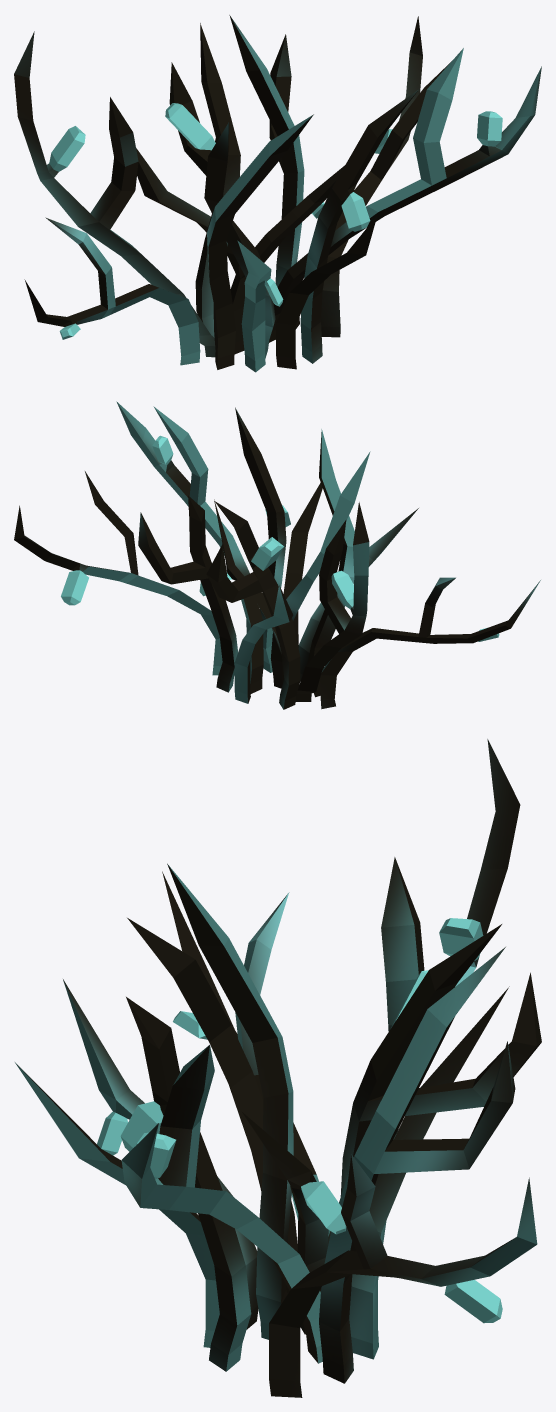
File: puska.fbx
3 views of the same model, one above another, from view 1: azimuth 30°, elevation 25°; view 2: azimuth 150°, elevation 25°; view 3: azimuth 270°, elevation 25° (orthographic). The views are drawn at different scales.
Parts seen in each view (by area): view 1: oksa; view 2: oksa; view 3: oksa.
Part boxes in pixels (<box>): oksa: <box>14,15,541,372</box>; oksa: <box>14,401,540,709</box>; oksa: <box>15,739,541,1397</box>.
Size of the model in its own units: 0.8873 by 0.5125 by 0.5095.
2 materials, 1 textured.
